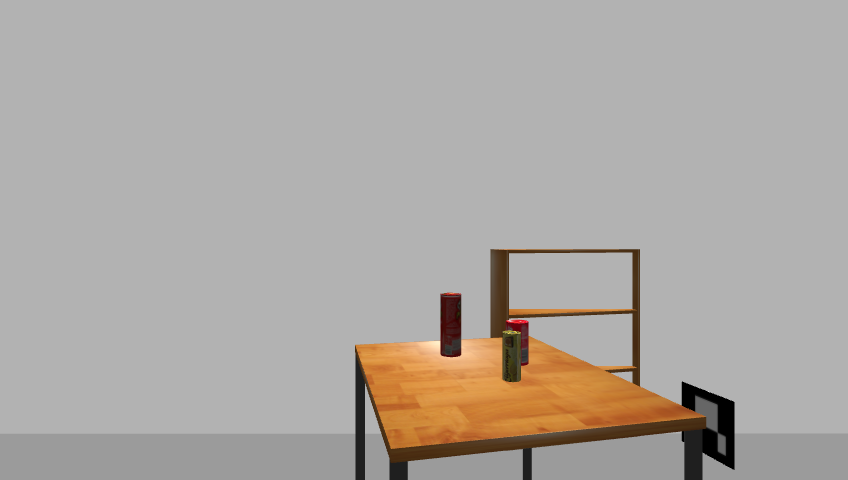aruco marker: (676, 381, 740, 471)
biscuits pack: (501, 332, 521, 382)
bookshelf: (487, 246, 647, 397)
coke can: (505, 319, 530, 367)
dinner table: (346, 333, 711, 480)
pringles can: (438, 292, 464, 359)
